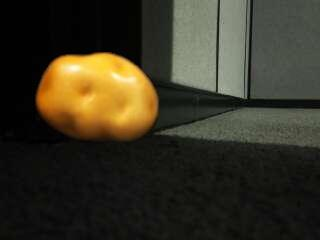Potato: (35, 53, 163, 147)
